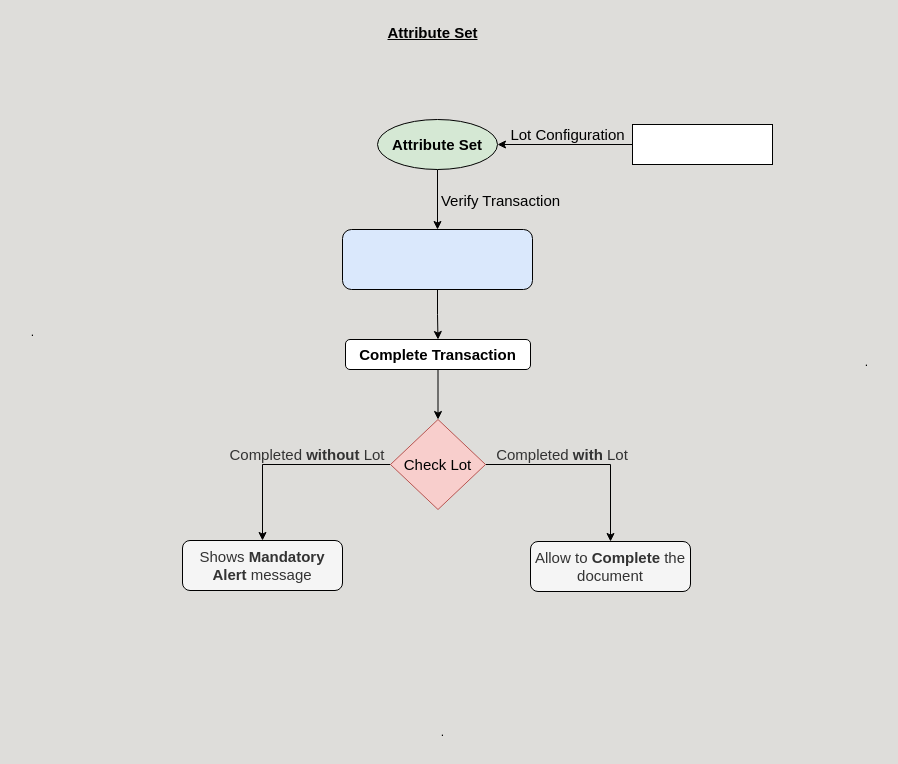
Some shapes in this 898 by 764 pixel diagram are drawn without their labels. The centre of each missing label's shape, as x and y in pixels:
Inventory Transaction: 1) Material Receipt Line 2) Customer Return etc...: point 437,259
Manually created by user in HQ.: point 702,144
